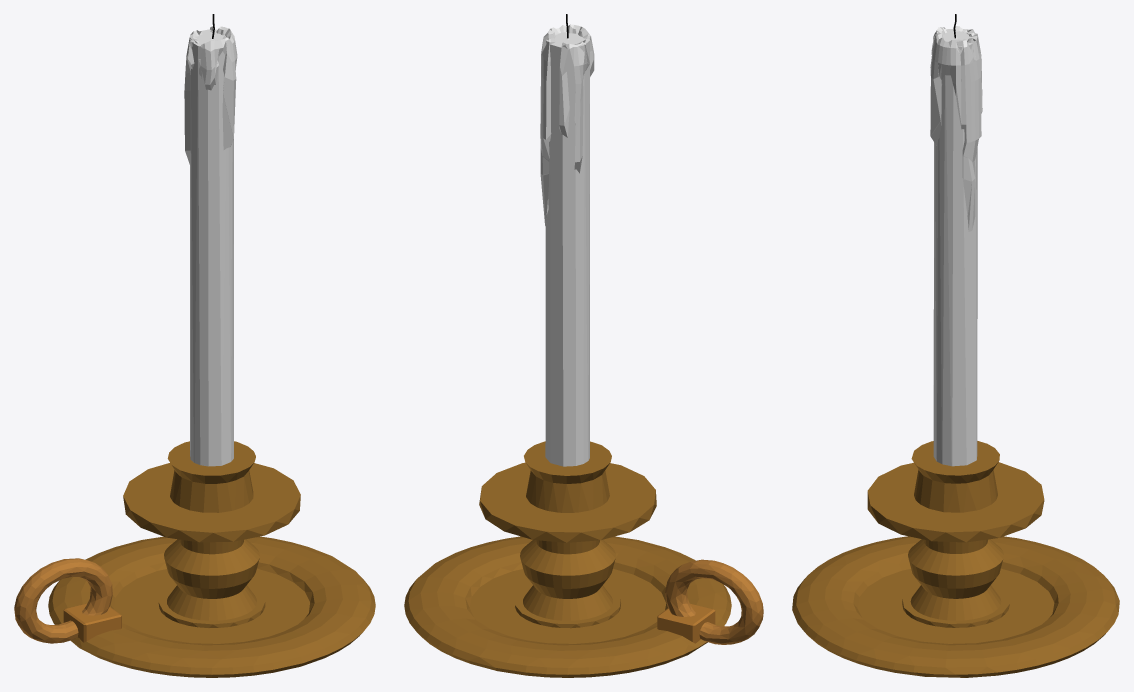
Rendered from Kitchen_SmallProps_Candle_Handle.fbx.
The picture shows the model from 3 angles, left to right: view 1: azimuth 30°, elevation 25°; view 2: azimuth 150°, elevation 25°; view 3: azimuth 270°, elevation 25°; orthographic projection.
Visible parts, largest first — view 1: Ljushållare, Ljus, Handtag, Melted_part, Cube; view 2: Ljushållare, Ljus, Melted_part, Handtag, Cube; view 3: Ljushållare, Ljus, Melted_part.
Boxes of the visible parts, x1,y1,x2,y2 form: Ljushållare: (48,441,375,677); Ljus: (190,29,233,466); Handtag: (14,558,112,643); Melted_part: (184,26,237,165); Cube: (63,603,121,642); Ljushållare: (404,441,731,677); Ljus: (545,32,589,466); Melted_part: (540,24,594,226); Handtag: (665,559,763,644); Cube: (657,603,715,643); Ljushållare: (792,441,1119,677); Ljus: (933,29,977,466); Melted_part: (930,26,982,231).
Bounding box in the file's own units: 17.6 × 29.98 × 14.79.
